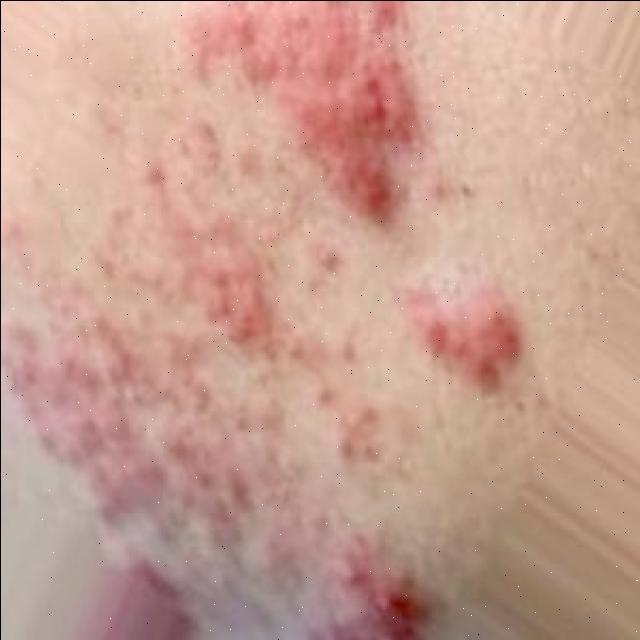Shingles: (6, 206, 422, 637), (185, 4, 520, 387)
